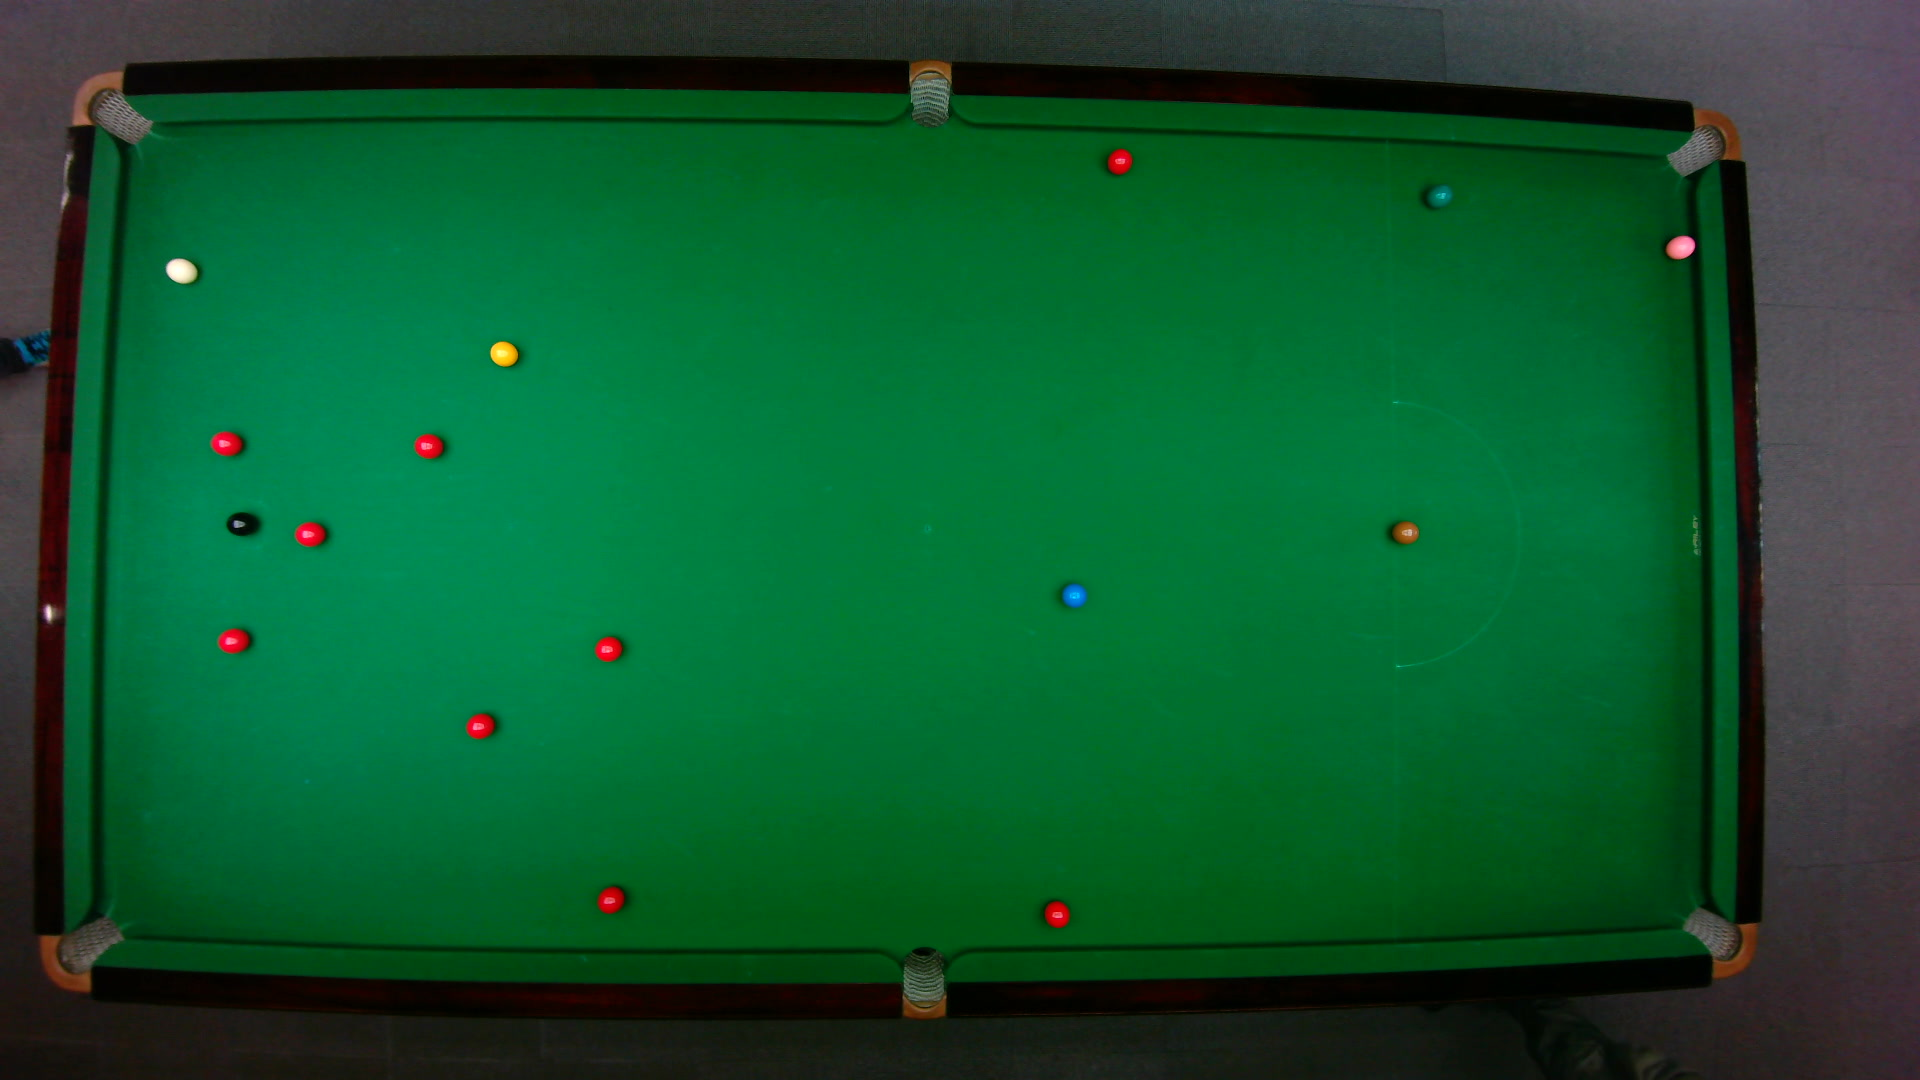bag: (38, 914, 125, 993), (69, 69, 153, 145), (1677, 905, 1756, 978), (1663, 107, 1741, 178), (901, 943, 944, 1021), (909, 57, 949, 128)
black: (223, 510, 256, 535)
blue: (1059, 582, 1087, 608)
brown: (1390, 520, 1419, 545)
green: (1423, 182, 1453, 208)
pink: (1663, 232, 1697, 260)
red: (208, 429, 244, 458), (463, 709, 496, 740), (291, 520, 327, 547), (214, 626, 251, 653), (595, 884, 625, 914), (411, 433, 444, 459), (593, 633, 622, 662), (1043, 899, 1071, 928), (1105, 146, 1133, 175)
white: (164, 255, 199, 284)
yellow: (487, 338, 520, 367)
zone: (1390, 400, 1520, 669)
